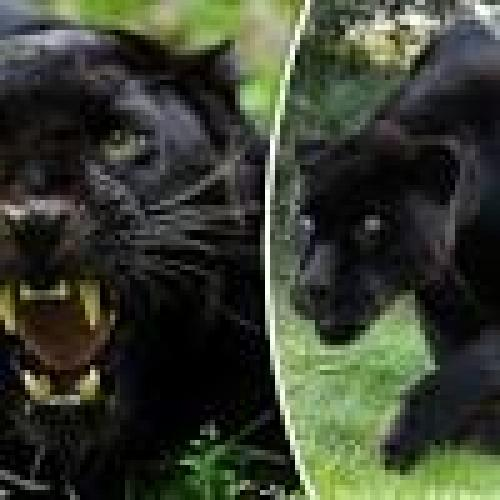panther-endangered: (0, 0, 275, 495), (297, 17, 500, 464)
